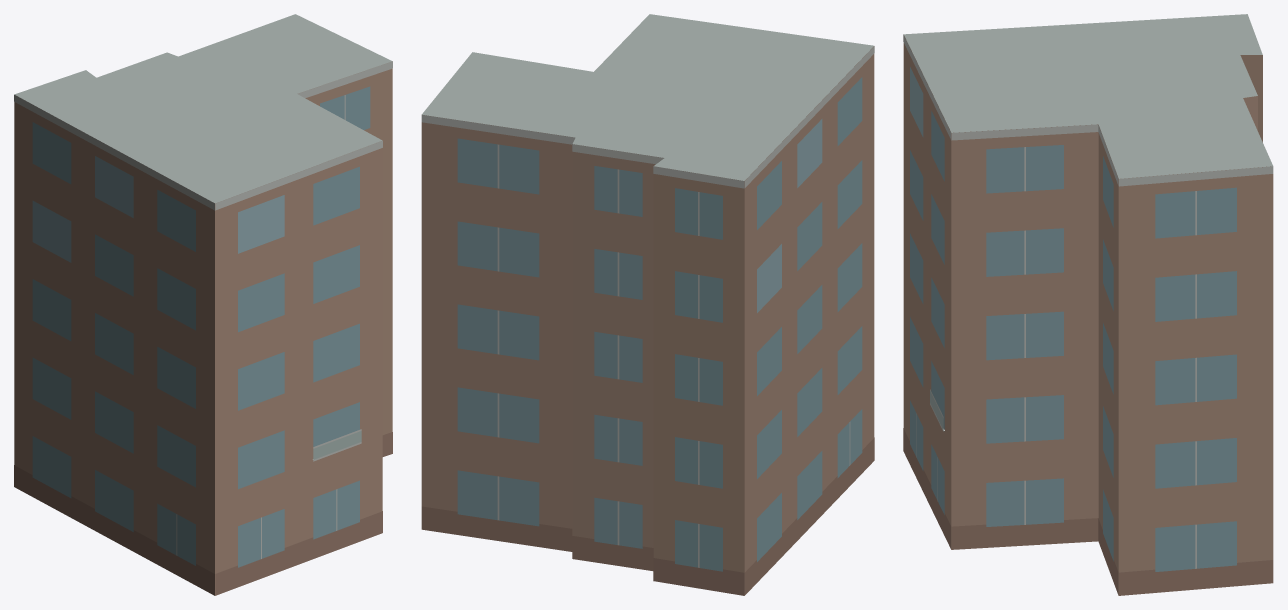
File: survey-upis-33013634.glb
The picture shows the model from 3 angles, left to right: view 1: azimuth 30°, elevation 25°; view 2: azimuth 150°, elevation 25°; view 3: azimuth 270°, elevation 25°; orthographic projection. The views are drawn at different scales.
Parts seen in each view (by area): view 1: survey-upis-33013634.tmp; view 2: survey-upis-33013634.tmp; view 3: survey-upis-33013634.tmp.
Part boxes in pixels (x1=…): survey-upis-33013634.tmp: x1=14, y1=14, x2=392, y2=595; survey-upis-33013634.tmp: x1=421, y1=14, x2=874, y2=595; survey-upis-33013634.tmp: x1=903, y1=14, x2=1273, y2=595.
Size of the model in its own units: 11.29 by 13.3 by 10.7.
